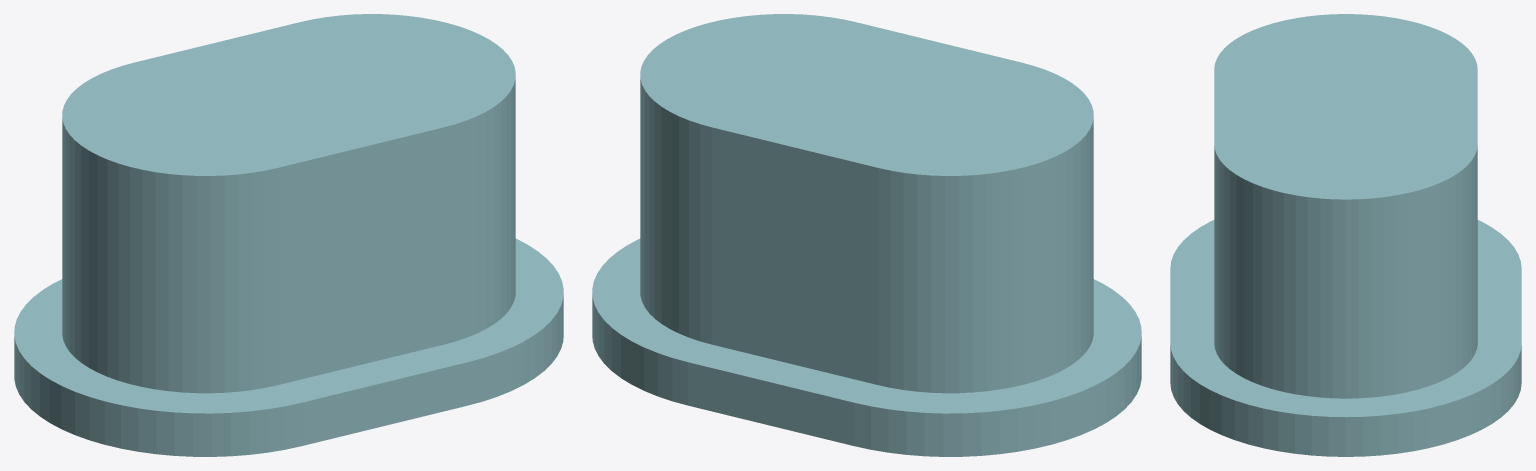
File: Switch.glb
The picture shows the model from 3 angles, left to right: view 1: azimuth 30°, elevation 25°; view 2: azimuth 150°, elevation 25°; view 3: azimuth 270°, elevation 25°; orthographic projection. The views are drawn at different scales.
Parts seen in each view (by area): view 1: Mesh_Mesh_head_geo.001_lambert2SG.001; view 2: Mesh_Mesh_head_geo.001_lambert2SG.001; view 3: Mesh_Mesh_head_geo.001_lambert2SG.001.
Part boxes in pixels (bbox=[...]): Mesh_Mesh_head_geo.001_lambert2SG.001: bbox=[14, 14, 563, 456]; Mesh_Mesh_head_geo.001_lambert2SG.001: bbox=[592, 14, 1141, 456]; Mesh_Mesh_head_geo.001_lambert2SG.001: bbox=[1170, 14, 1521, 456].
Bounding box in the file's own units: 12 × 6 × 8.
